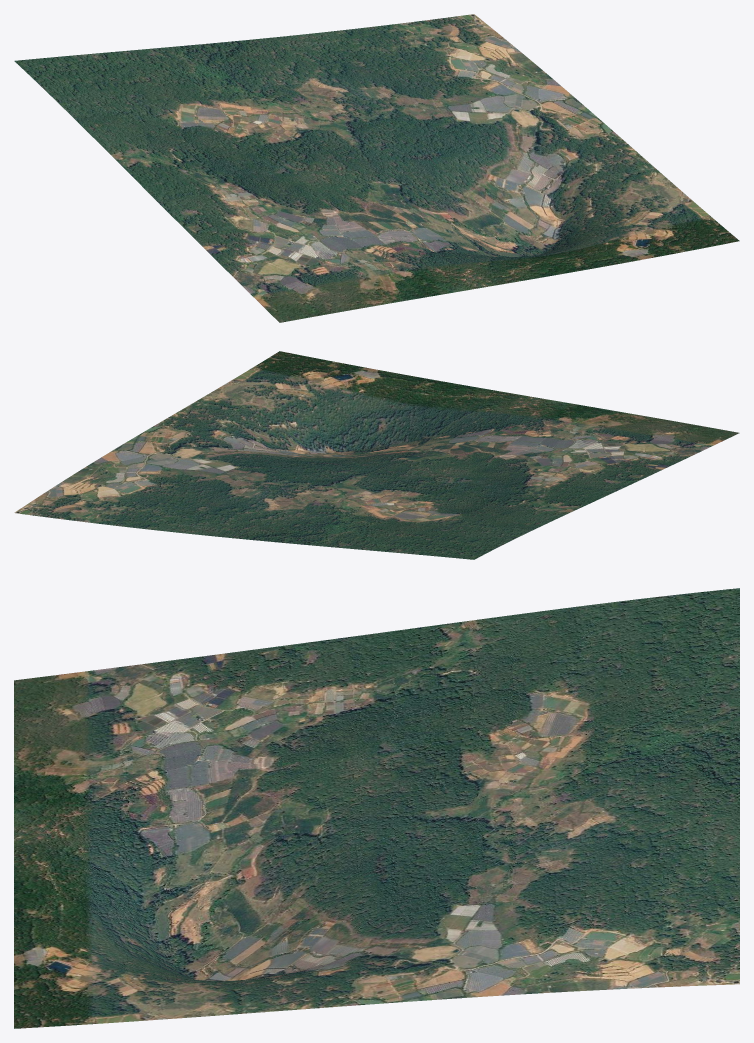
File: terrain_real_T_E01_N05.glb
The picture shows the model from 3 angles, top to bottom: view 1: azimuth 30°, elevation 25°; view 2: azimuth 150°, elevation 25°; view 3: azimuth 270°, elevation 25°; orthographic projection. The views are drawn at different scales.
Parts seen in each view (by area): view 1: Terrain_Real_DEM_T_E01_N05; view 2: Terrain_Real_DEM_T_E01_N05; view 3: Terrain_Real_DEM_T_E01_N05.
Boxes of the visible parts, box(x1,y1,x2,y2) form: Terrain_Real_DEM_T_E01_N05: box(14, 14, 739, 322); Terrain_Real_DEM_T_E01_N05: box(14, 351, 739, 559); Terrain_Real_DEM_T_E01_N05: box(14, 588, 739, 1028).
Bounding box in the file's own units: 2000 × 500 × 2000.
1 material, 1 textured.
